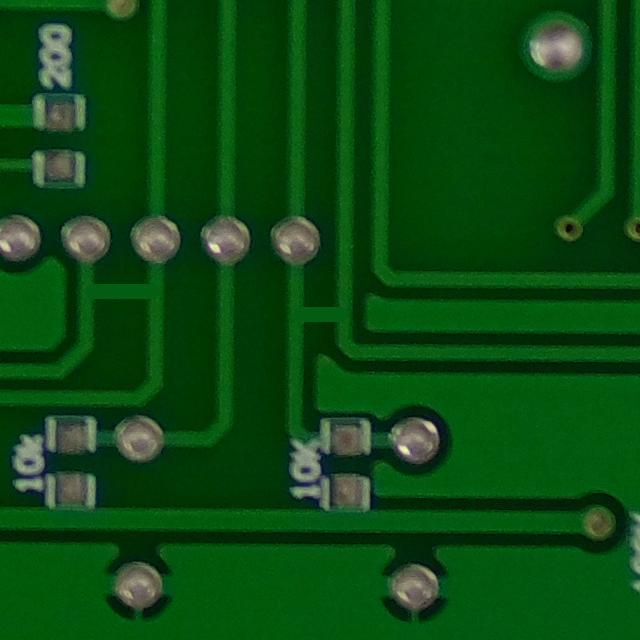short: (278, 290, 362, 351)
